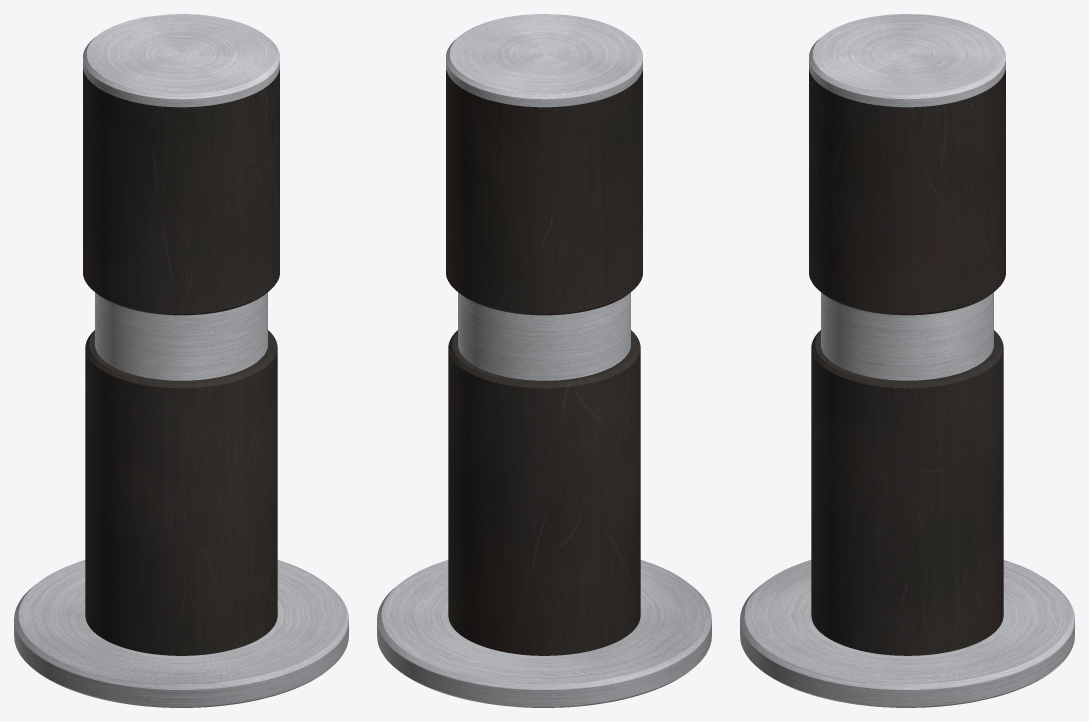
Rendered from rook-black.glb.
The picture shows the model from 3 angles, left to right: view 1: azimuth 30°, elevation 25°; view 2: azimuth 150°, elevation 25°; view 3: azimuth 270°, elevation 25°; orthographic projection.
Parts seen in each view (by area): view 1: ferro-orbis_rook_black; view 2: ferro-orbis_rook_black; view 3: ferro-orbis_rook_black.
Part boxes in pixels (bbox=[...]): ferro-orbis_rook_black: bbox=[14, 14, 348, 707]; ferro-orbis_rook_black: bbox=[377, 14, 711, 707]; ferro-orbis_rook_black: bbox=[740, 14, 1074, 707].
Size of the model in its own units: 0.514 by 0.99 by 0.514.
3 materials, 3 textured.
